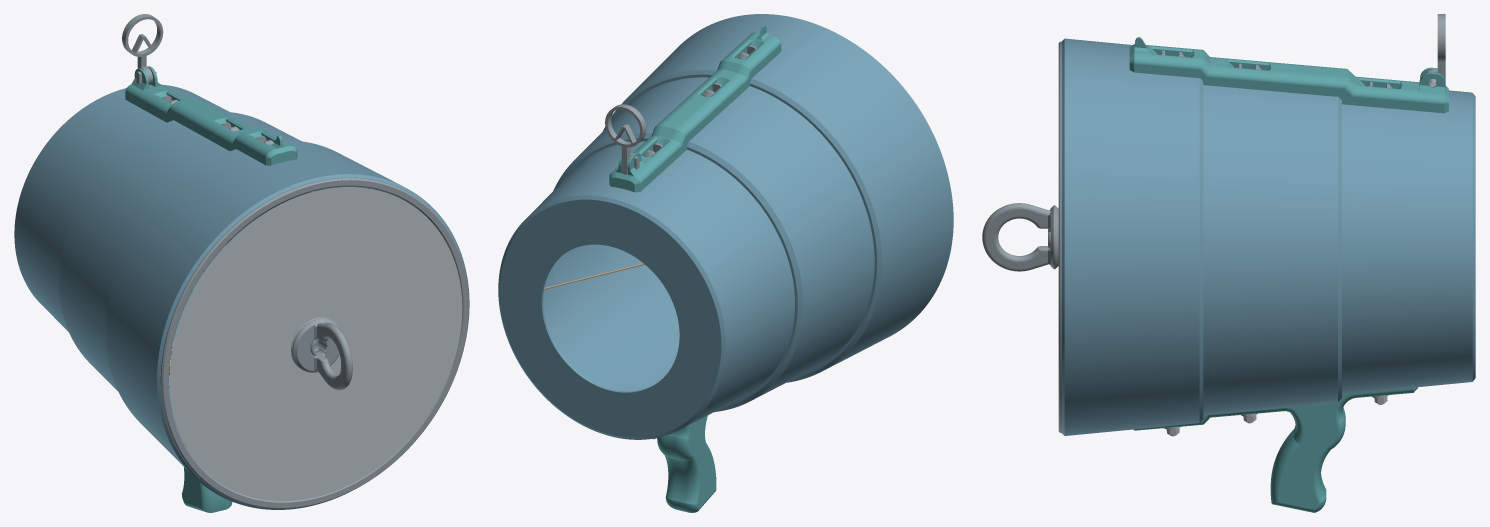
The model's file is selected-rest.glb.
3 renders of one model, left to right at view 1: azimuth 30°, elevation 25°; view 2: azimuth 150°, elevation 25°; view 3: azimuth 270°, elevation 25°, orthographic. The views are drawn at different scales.
Parts seen in each view (by area): view 1: film-study, c-shell-7, c-shell-8, c-shell-6, stock-10, stock-3, stock-5, stock-4, stock-2; view 2: c-shell-6, c-shell-8, c-shell-7, stock-3, stock-4, stock-2; view 3: c-shell-7, c-shell-8, c-shell-6, stock-3, stock-4, stock-5, stock-10, stock-2.
Part boxes in pixels (x1,y1,x2,y2): film-study: (169,187,462,501); c-shell-7: (106,140,469,509); c-shell-8: (59,111,374,446); c-shell-6: (14,84,313,388); stock-10: (160,177,468,508); stock-3: (125,66,297,165); stock-5: (292,318,352,390); stock-4: (182,467,232,512); stock-2: (122,14,163,84); c-shell-6: (498,141,794,439); c-shell-8: (552,77,874,411); c-shell-7: (603,14,953,382); stock-3: (609,25,781,192); stock-4: (657,415,716,512); stock-2: (605,104,646,174); c-shell-7: (1061,38,1203,435); c-shell-8: (1203,85,1341,415); c-shell-6: (1342,90,1475,394); stock-3: (1129,37,1448,113); stock-4: (1133,387,1417,512); stock-5: (982,203,1058,271); stock-10: (1058,41,1061,432); stock-2: (1424,14,1445,90).
Bounding box in the file's own units: 0.2496 × 0.341 × 0.3098.
